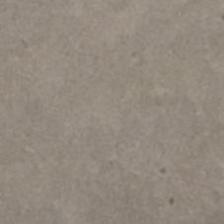Non_Crack: (5, 0, 216, 224)
